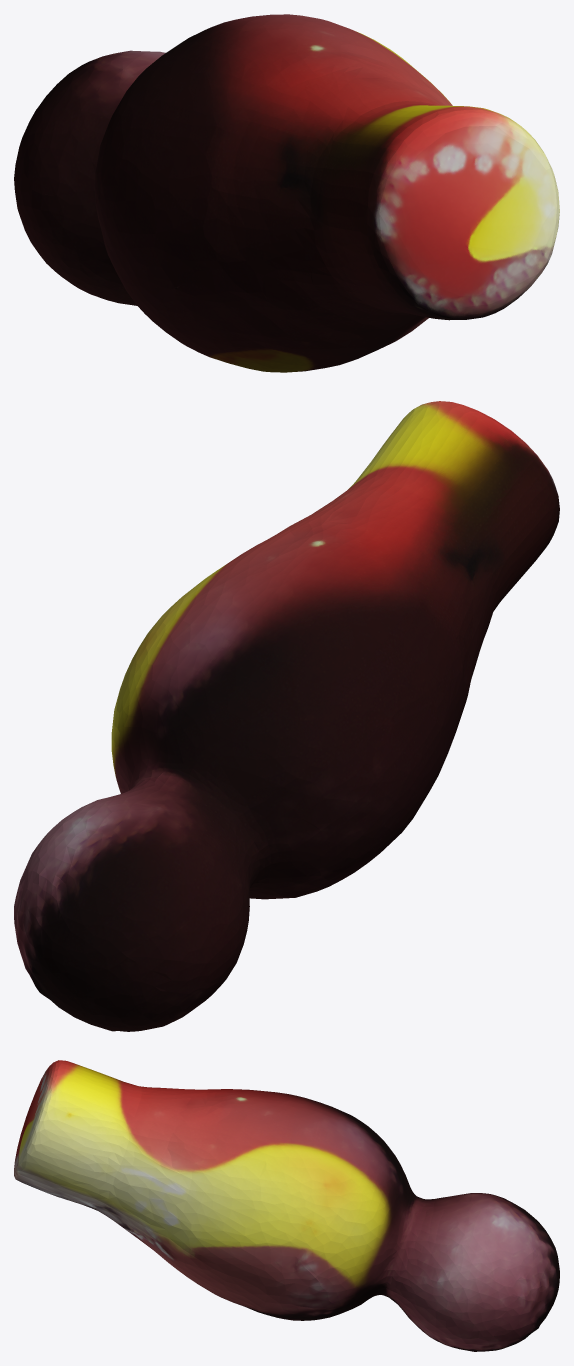
The model's file is trellis_recon.glb.
The picture shows the model from 3 angles, top to bottom: view 1: azimuth 30°, elevation 25°; view 2: azimuth 150°, elevation 25°; view 3: azimuth 270°, elevation 25°; orthographic projection. The views are drawn at different scales.
Parts seen in each view (by area): view 1: world; view 2: world; view 3: world.
Boxes of the visible parts, bbox=[...] form: world: bbox=[14, 14, 559, 372]; world: bbox=[14, 401, 559, 1031]; world: bbox=[14, 1060, 559, 1351].
Bounding box in the file's own units: 0.0138 × 0.0189 × 0.0345.
Materials: 1 (1 with a texture image).
